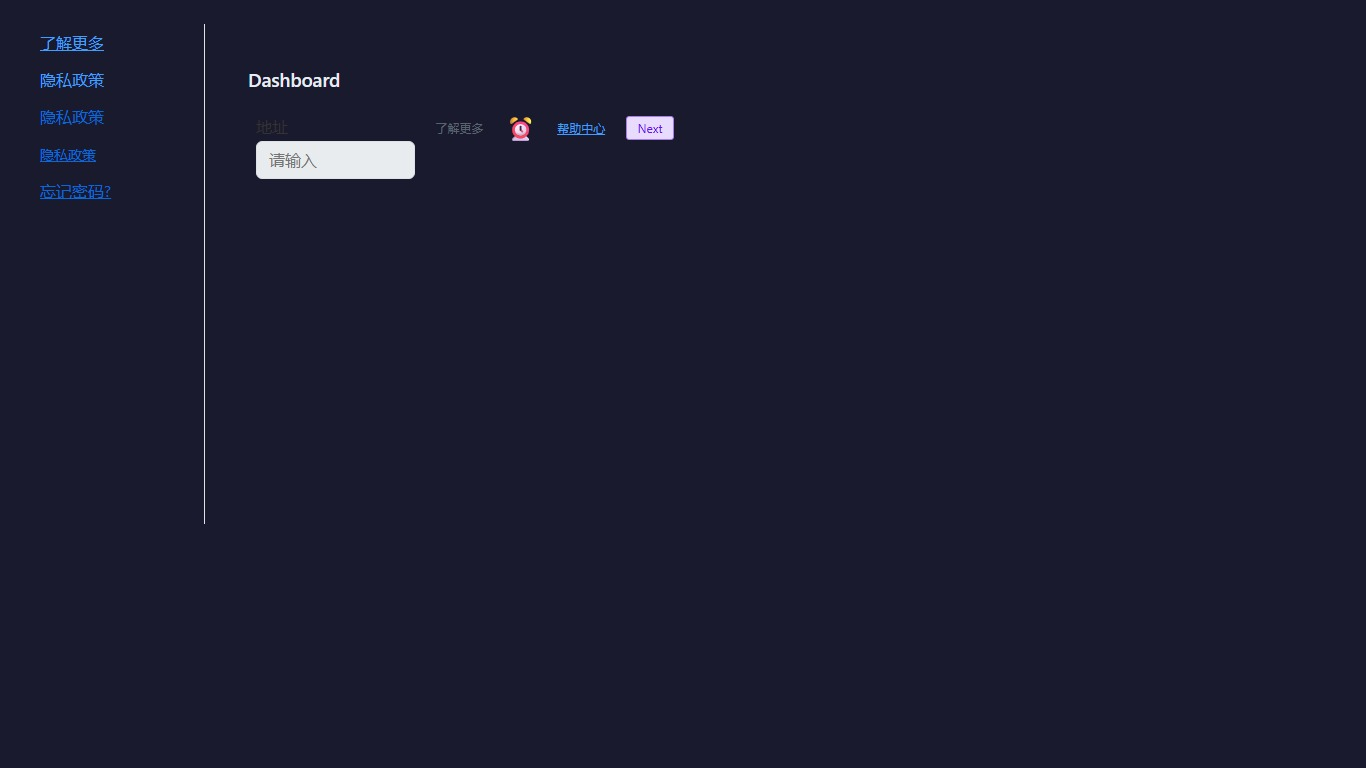button: (626, 116, 674, 140)
icon: (504, 116, 537, 140)
input: (256, 141, 415, 179)
link: (40, 180, 111, 201), (40, 32, 104, 53), (40, 69, 104, 90), (40, 106, 104, 127), (40, 145, 96, 164), (435, 120, 483, 136), (557, 120, 605, 136)
